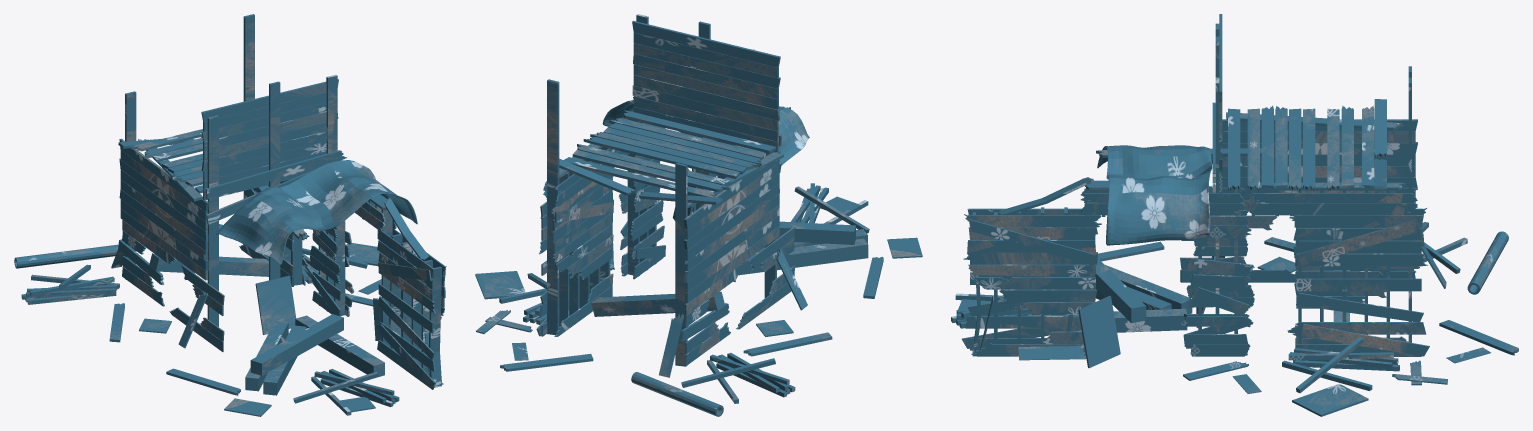
The model's file is hom1.fbx.
3 views of the same model, side by side, from view 1: azimuth 30°, elevation 25°; view 2: azimuth 150°, elevation 25°; view 3: azimuth 270°, elevation 25° (orthographic). The views are drawn at different scales.
Visible parts, largest first — view 1: Плоскость; view 2: Плоскость; view 3: Плоскость.
Boxes of the visible parts, x1,y1,x2,y2 form: Плоскость: [14, 14, 446, 416]; Плоскость: [475, 14, 922, 416]; Плоскость: [951, 14, 1518, 416].
Size of the model in its own units: 1921 by 1335 by 2436.
